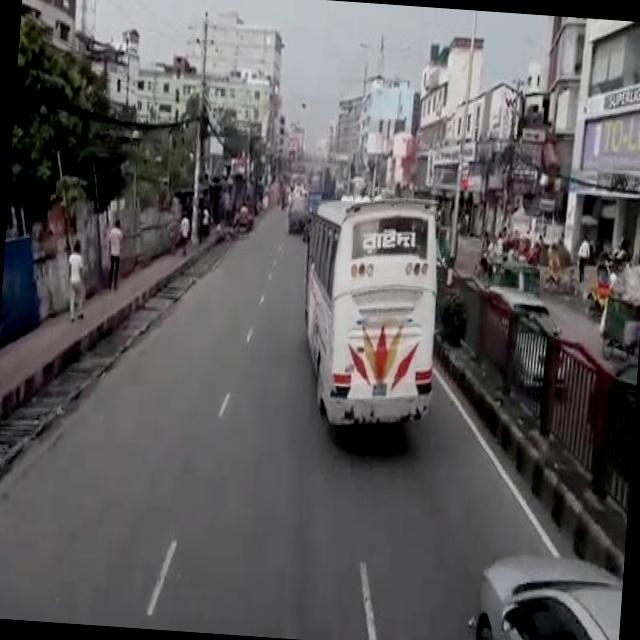bus: (290, 187, 444, 432)
car: (469, 545, 621, 640), (477, 280, 577, 391)
motorcycle: (540, 232, 578, 300), (582, 258, 612, 324), (494, 255, 542, 292)
truck: (286, 190, 305, 224)
